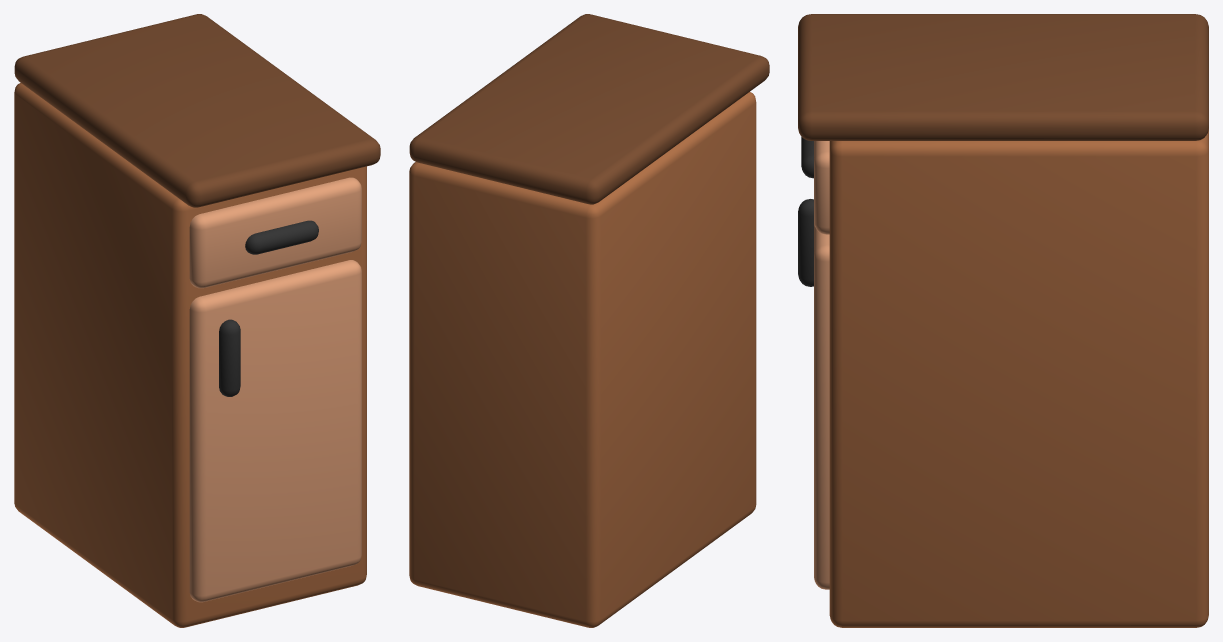
Rendered from tumba_40x60x85_2.glb.
3 renders of one model, left to right at view 1: azimuth 30°, elevation 25°; view 2: azimuth 150°, elevation 25°; view 3: azimuth 270°, elevation 25°, orthographic. The views are drawn at different scales.
Parts seen in each view (by area): view 1: Cube.011; view 2: Cube.011; view 3: Cube.011.
Boxes of the visible parts, x1,y1,x2,y2 form: Cube.011: (14,14,380,627); Cube.011: (409,14,769,627); Cube.011: (798,14,1208,627).
Bounding box in the file's own units: 0.4 × 0.9 × 0.65.
